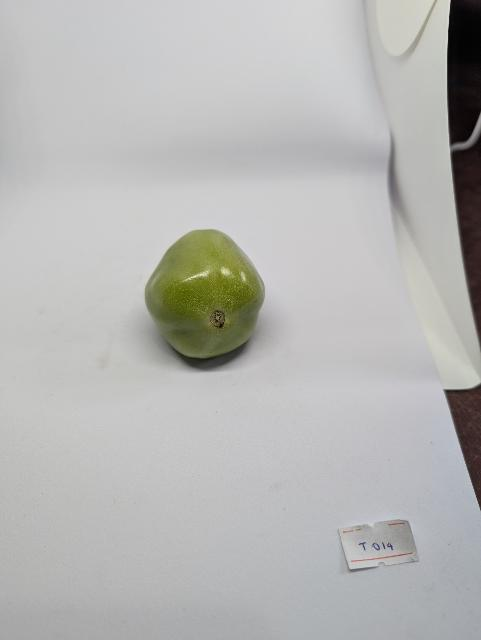green: (142, 224, 271, 364)
